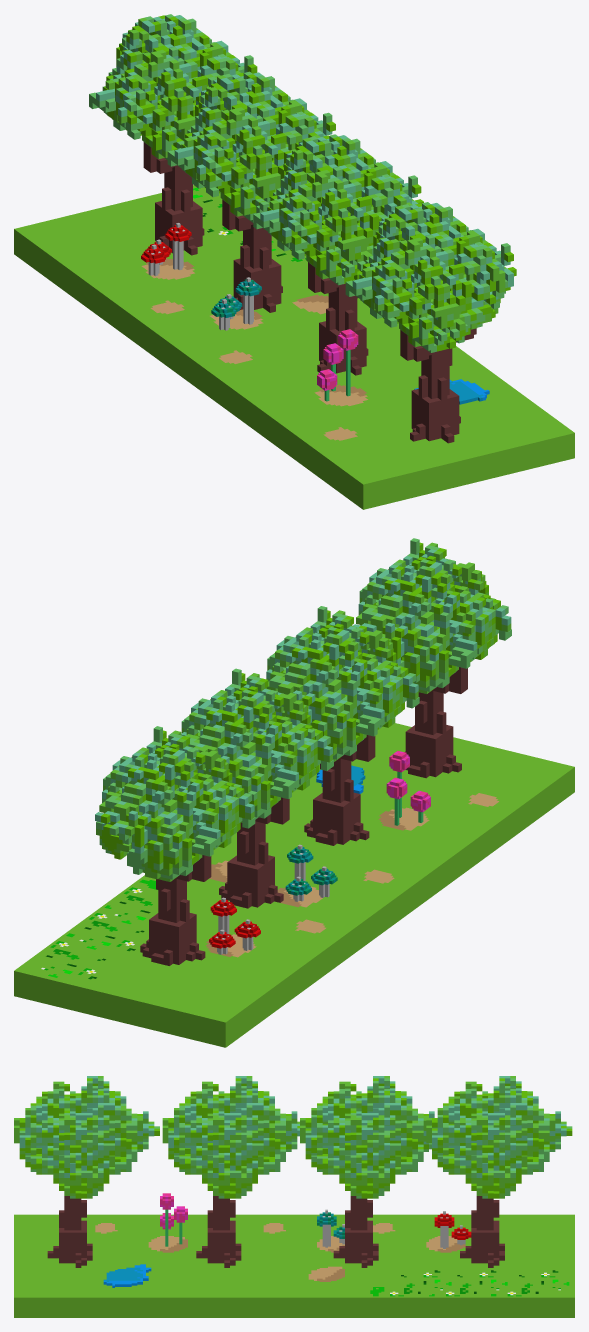
The model's file is map_v1-3.obj.
The picture shows the model from 3 angles, top to bottom: view 1: azimuth 30°, elevation 25°; view 2: azimuth 150°, elevation 25°; view 3: azimuth 270°, elevation 25°; orthographic projection. The views are drawn at different scales.
Bounding box in the file's own units: 7 × 7.6 × 20.
1 material, 1 textured.
